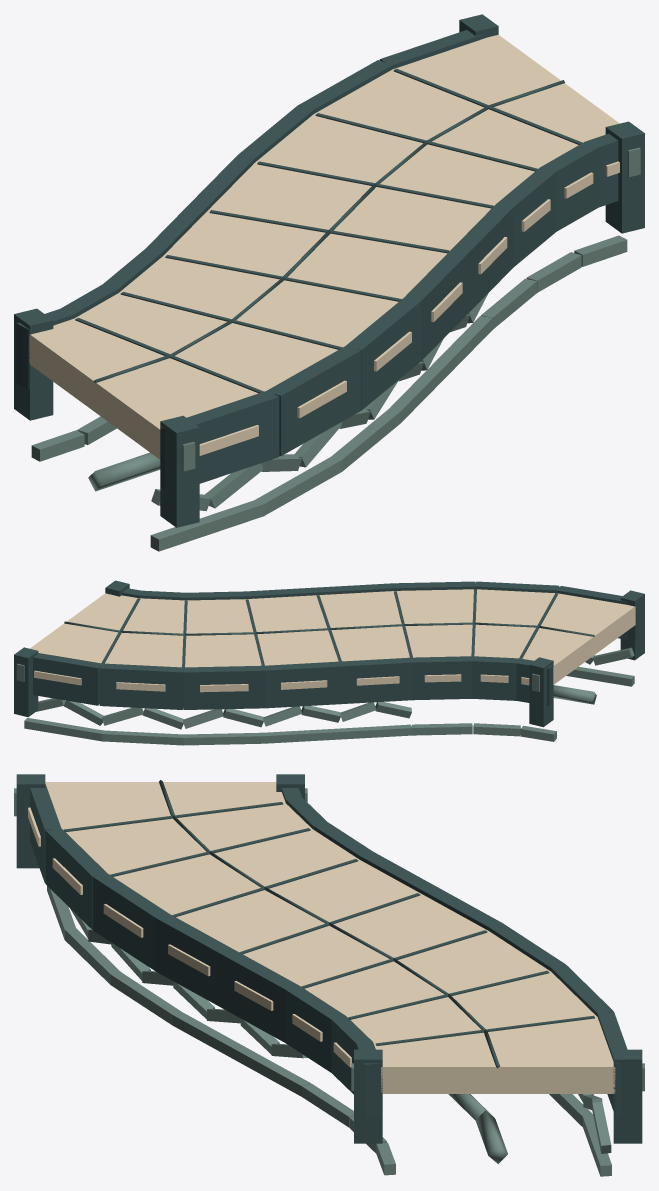
File: Sbend_L4_lab2.glb
3 renders of one model, top to bottom at view 1: azimuth 30°, elevation 25°; view 2: azimuth 150°, elevation 25°; view 3: azimuth 270°, elevation 25°, orthographic. The views are drawn at different scales.
Visible parts, largest first — view 1: Sbend_L4; view 2: Sbend_L4; view 3: Sbend_L4.
Boxes of the visible parts, x1,y1,x2,y2 form: Sbend_L4: (14,14,644,551); Sbend_L4: (14,580,644,745); Sbend_L4: (14,774,644,1176).
Bounding box in the file's own units: 8.08 × 1.52 × 7.48.
